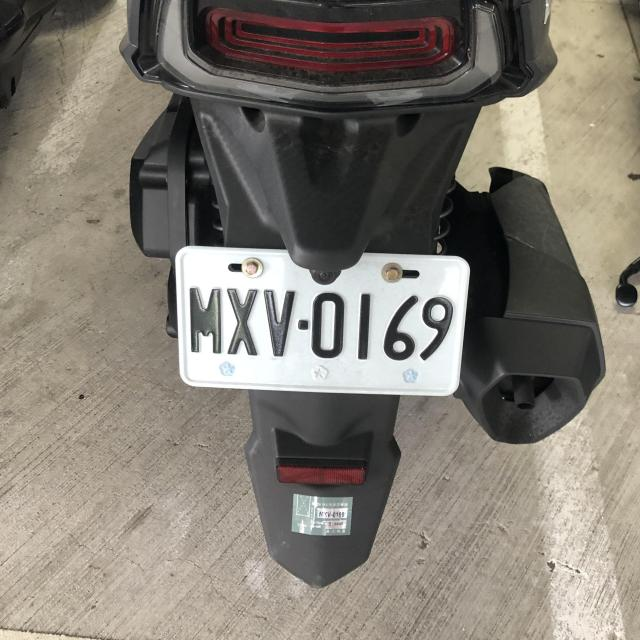W: (172, 243, 470, 399)
